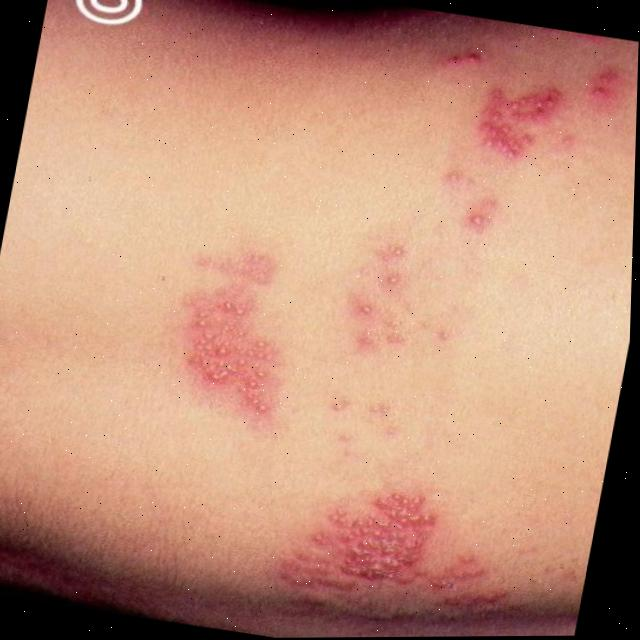Shingles: (306, 483, 506, 621), (171, 279, 288, 410), (464, 71, 567, 161)
